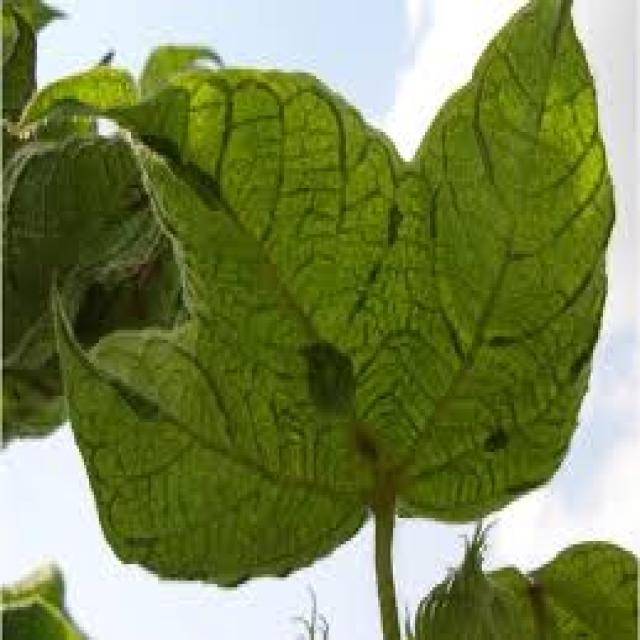Leaf Curl Virus: (175, 150, 509, 436)
